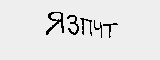В: (101, 17, 116, 37)
М: (77, 21, 101, 38)
Ш: (119, 20, 150, 38)
Э: (41, 20, 57, 41)
Ю: (9, 19, 39, 40)
Ұ: (58, 18, 76, 35)
